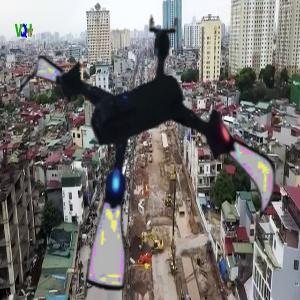drone: (11, 11, 297, 297)
